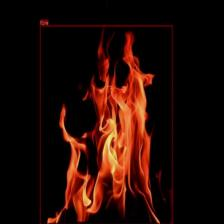fire: (39, 24, 173, 224)
